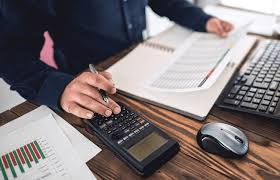Calculator: (80, 100, 181, 175)
